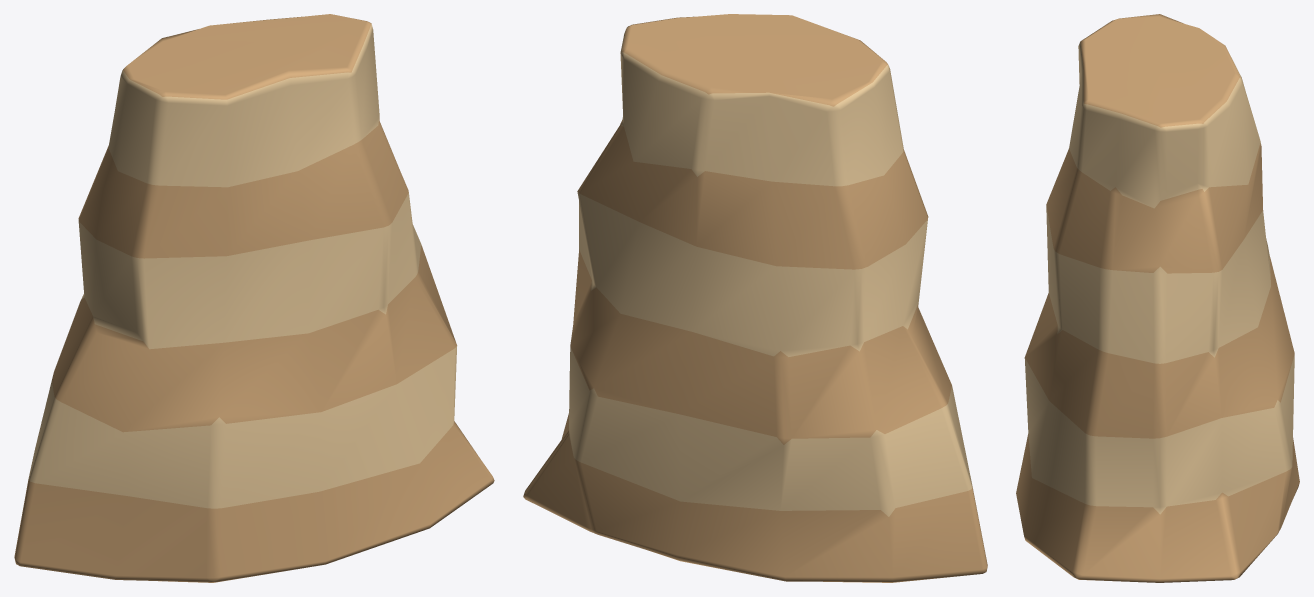
Rendered from CanyonRock.fbx.
3 views of the same model, side by side, from view 1: azimuth 30°, elevation 25°; view 2: azimuth 150°, elevation 25°; view 3: azimuth 270°, elevation 25° (orthographic). The views are drawn at different scales.
Visible parts, largest first — view 1: Canyon_WeatheredStrata; view 2: Canyon_WeatheredStrata; view 3: Canyon_WeatheredStrata.
Part boxes in pixels (box(x1,y1,x2,y2)): Canyon_WeatheredStrata: box(14, 14, 494, 582); Canyon_WeatheredStrata: box(523, 14, 987, 582); Canyon_WeatheredStrata: box(1016, 14, 1299, 582).
Bounding box in the file's own units: 4.52 × 4.68 × 2.73.
